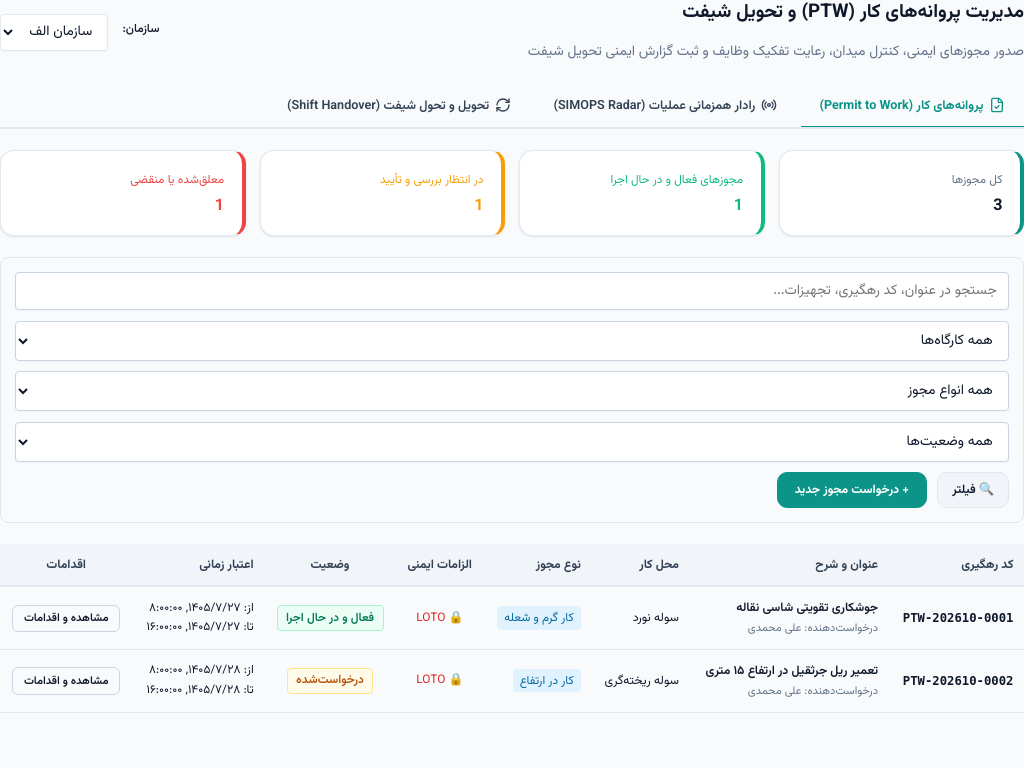
it: PermitsPage › opens permit detail modal and displays control requirements
What coordinates should you click on to do the following:
click the button "مشاهده و اقدامات" in the row of "PTW-202610-0001"
I would click on:
 (66, 618)
Its box is [12,605,120,632].
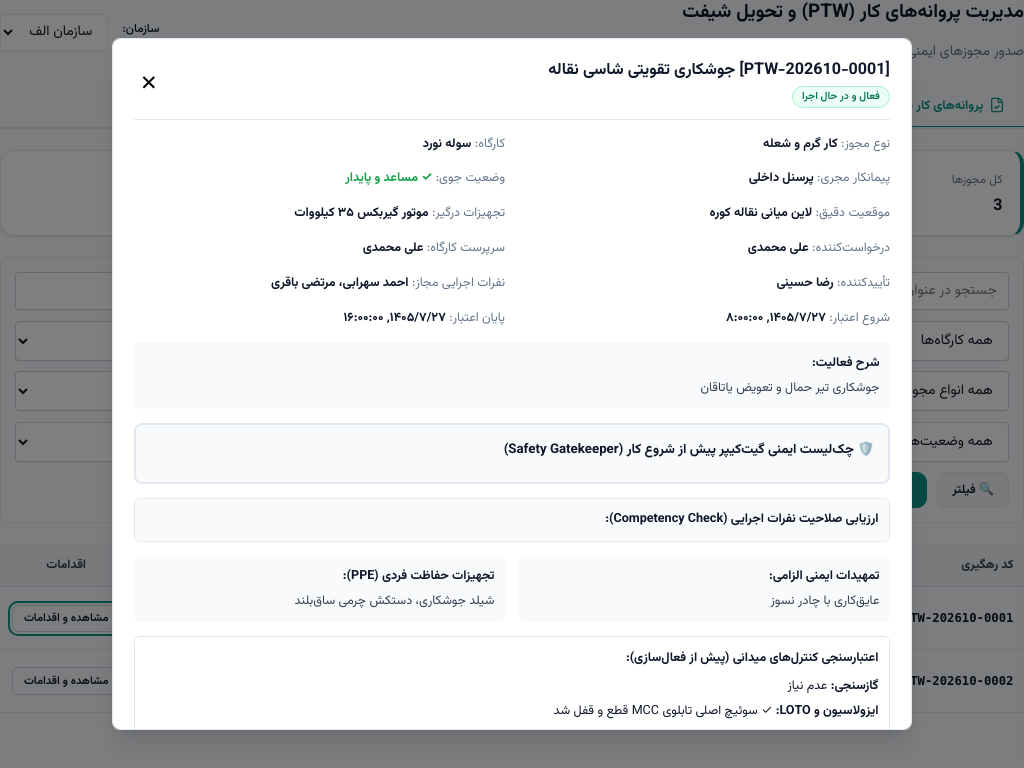
Expected: the heading "[PTW-202610-0001] جوشکاری تقویتی شاسی نقاله" is shown, [548,60,890,82]
Expected: the text "اعتبارسنجی کنترل‌های میدانی (پیش از فعال‌سازی):" is shown, [626,648,878,668]
Expected: the text "ایزولاسیون و LOTO: ✓ سوئیچ اصلی تابلوی MCC قطع و قفل شد" is shown, [554,701,878,721]
